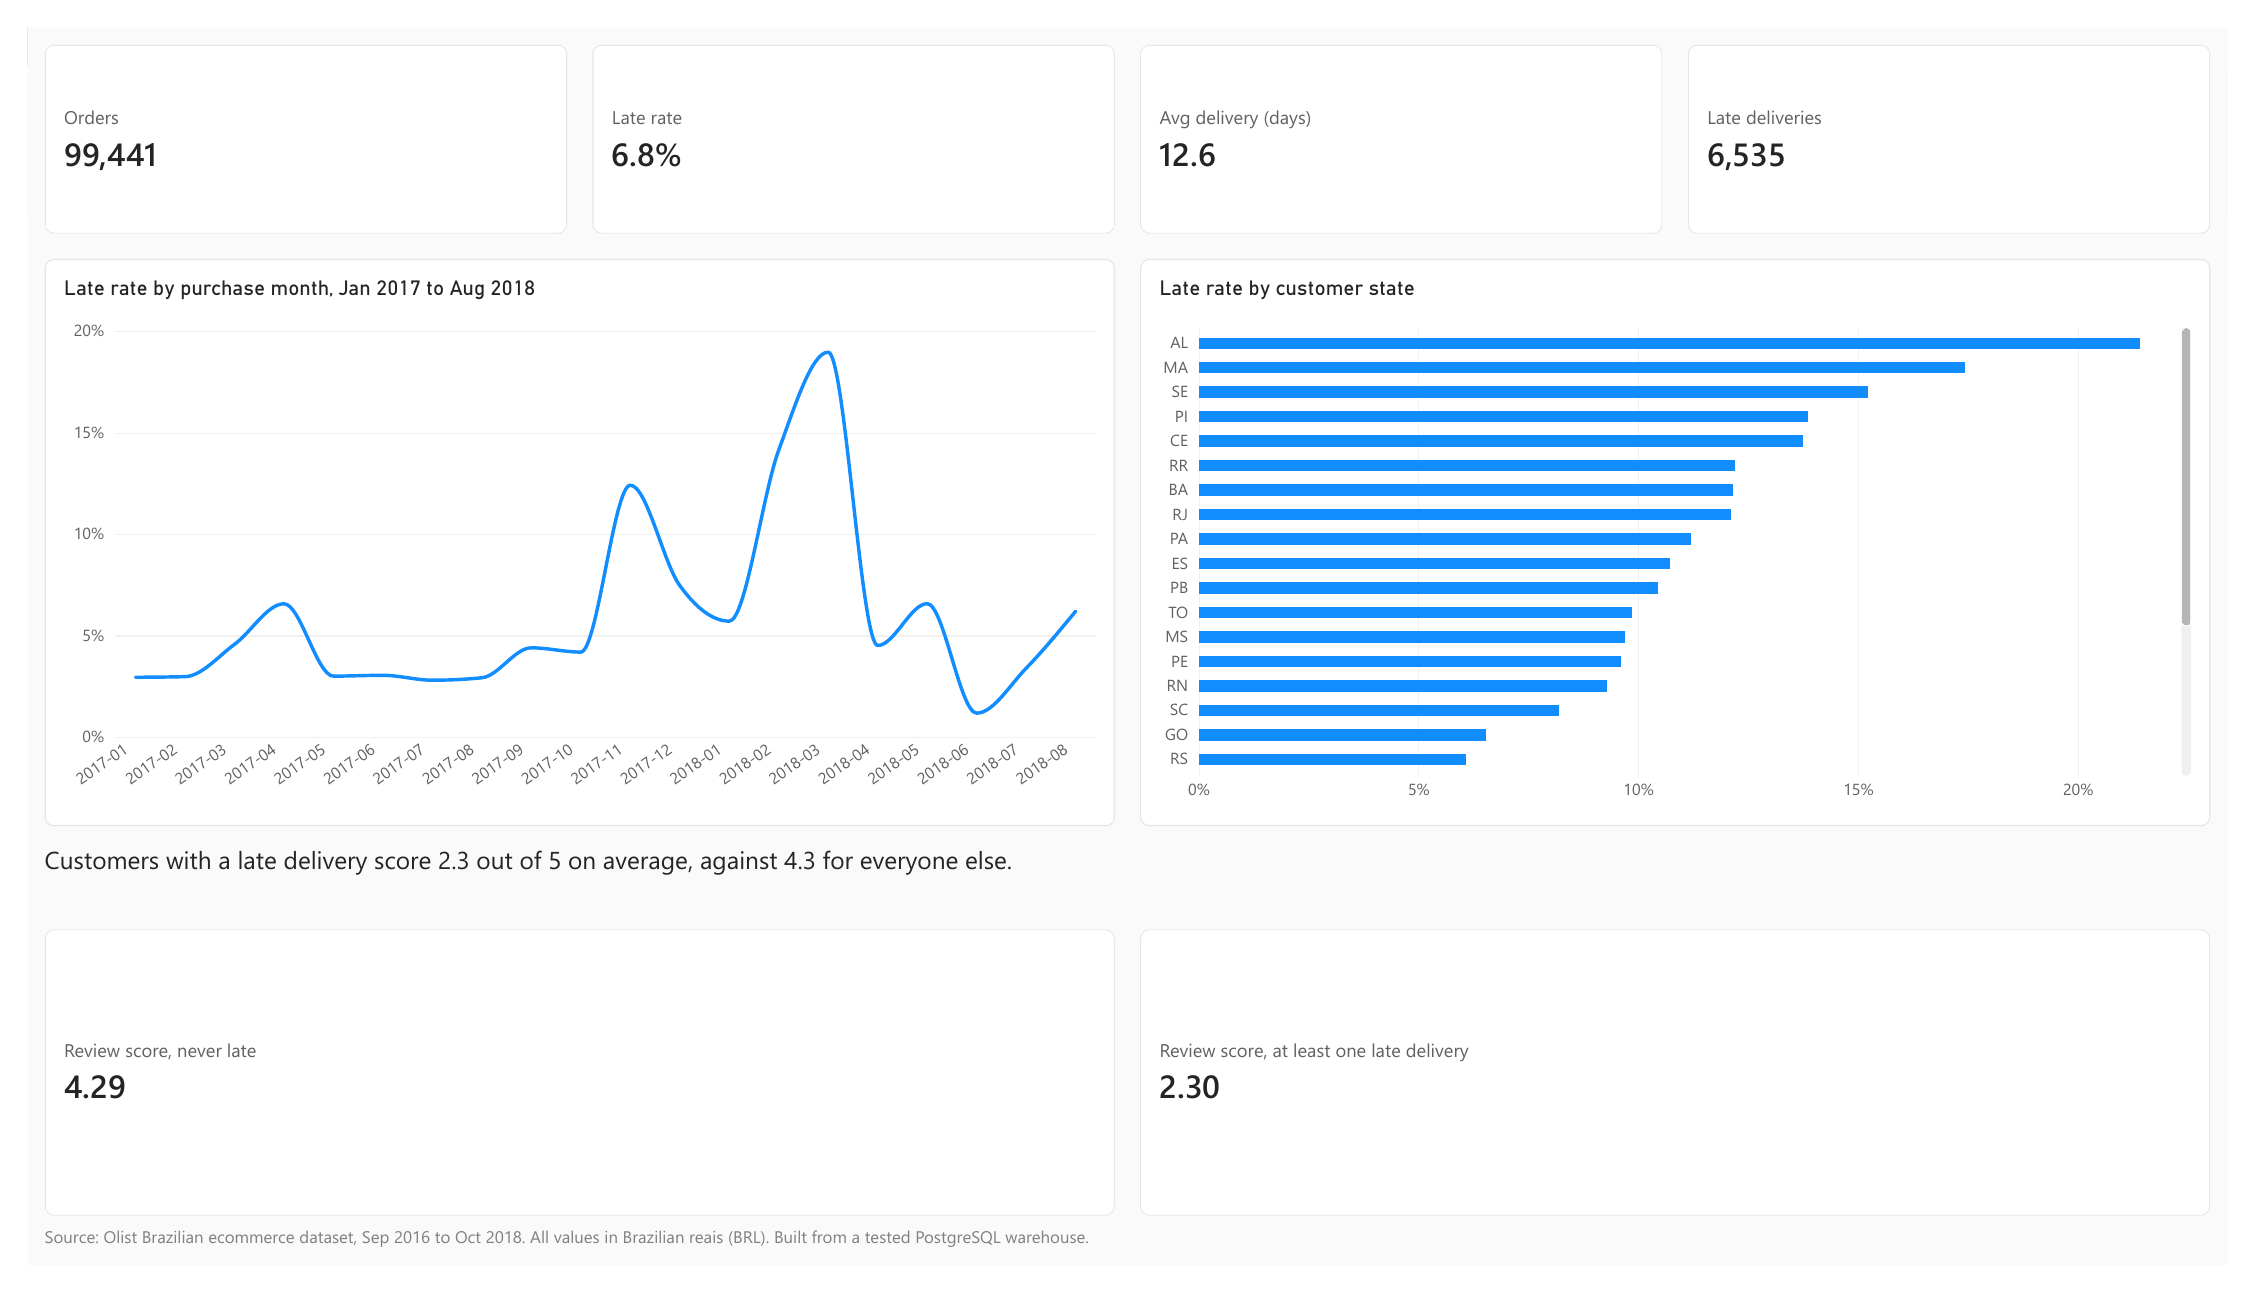

The dashboard page shown, as its layout file describes it:
{"tool":"powerbi","page":{"name":"Delivery","canvas":[1920,1080],"ordinal":0},"visuals":[{"type":"cardVisual","fields":{"Data":["delivery_performance.Late Rate"]},"box":[493,15,456,165],"z":0},{"type":"cardVisual","fields":{"Data":["delivery_performance.Total Orders Label"]},"box":[15,15,456,165],"z":1000},{"type":"cardVisual","fields":{"Data":["delivery_performance.Avg Delivery Days"]},"box":[971,15,456,165],"z":2000},{"type":"cardVisual","fields":{"Data":["delivery_performance.Late Orders Label"]},"box":[1449,15,456,165],"z":3000},{"type":"lineChart","title":"\tLate rate by purchase month, Jan 2017 to Aug 2018","fields":{"Category":["dim_date.Year Month"],"Y":["delivery_performance.Late Rate"]},"box":[15,202,934,495],"z":4000},{"type":"clusteredBarChart","title":"Late rate by customer state","fields":{"Category":["delivery_performance.customer_state"],"Y":["delivery_performance.Late Rate"]},"box":[971,202,934,495],"z":5000},{"type":"cardVisual","fields":{"Data":["customer_performance.Avg Score No Late"]},"box":[15,787,934,250],"z":6000},{"type":"cardVisual","fields":{"Data":["customer_performance.Avg Score Had Late"]},"box":[971,787,934,250],"z":7000},{"type":"textbox","box":[15,712,1890,60],"z":8000},{"type":"textbox","box":[15,1045,1890,30],"z":9000}]}

Visuals, with their boxes in screenshot pixels (x1, y1, x2, y2), scaled from the page's 1920x1080 canvas onto the 2255x1293 screenshot:
cardVisual - delivery_performance.Late Rate: box(579, 18, 1115, 216)
cardVisual - delivery_performance.Total Orders Label: box(18, 18, 553, 216)
cardVisual - delivery_performance.Avg Delivery Days: box(1140, 18, 1676, 216)
cardVisual - delivery_performance.Late Orders Label: box(1702, 18, 2237, 216)
"	Late rate by purchase month, Jan 2017 to Aug 2018" lineChart: box(18, 242, 1115, 834)
"Late rate by customer state" clusteredBarChart: box(1140, 242, 2237, 834)
cardVisual - customer_performance.Avg Score No Late: box(18, 942, 1115, 1242)
cardVisual - customer_performance.Avg Score Had Late: box(1140, 942, 2237, 1242)
textbox: box(18, 852, 2237, 924)
textbox: box(18, 1251, 2237, 1287)
